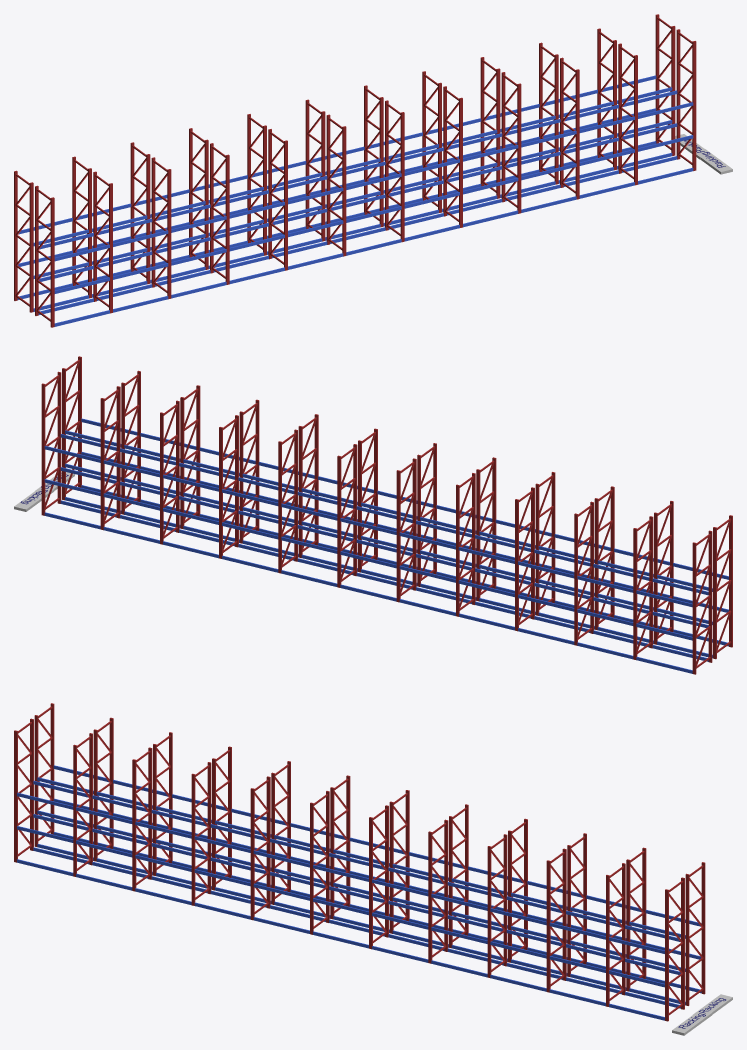
The model's file is qinxing.obj.
The picture shows the model from 3 angles, top to bottom: view 1: azimuth 30°, elevation 25°; view 2: azimuth 150°, elevation 25°; view 3: azimuth 330°, elevation 25°; orthographic projection.
Parts seen in each view (by area): view 1: PalletRack1, Shelf487, Shelf486, Shelf1, RackConfigurator; view 2: PalletRack1, Shelf487, Shelf486, Shelf1, RackConfigurator; view 3: PalletRack1, Shelf487, Shelf486, Shelf1, RackConfigurator.
Part boxes in pixels (left/top/right/bottom): PalletRack1: left=14, top=14, right=696, bottom=327; Shelf487: left=17, top=75, right=693, bottom=261; Shelf486: left=18, top=108, right=693, bottom=293; Shelf1: left=17, top=141, right=693, bottom=326; RackConfigurator: left=675, top=134, right=732, bottom=174; PalletRack1: left=41, top=356, right=732, bottom=674; Shelf487: left=44, top=418, right=728, bottom=607; Shelf486: left=44, top=452, right=728, bottom=640; Shelf1: left=44, top=485, right=728, bottom=673; RackConfigurator: left=14, top=471, right=74, bottom=511; PalletRack1: left=14, top=703, right=705, bottom=1021; Shelf487: left=17, top=765, right=701, bottom=953; Shelf486: left=17, top=798, right=701, bottom=987; Shelf1: left=17, top=832, right=701, bottom=1020; RackConfigurator: left=672, top=994, right=732, bottom=1035.
Size of the model in its own units: 27.85 by 5.12 by 3.48.
